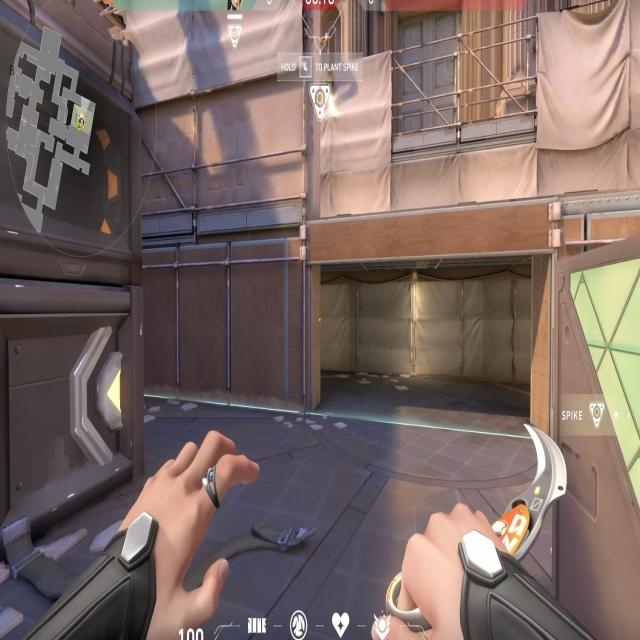A_Heaven_Wall: (114, 1, 308, 212)
A_Hell: (298, 202, 566, 450)
